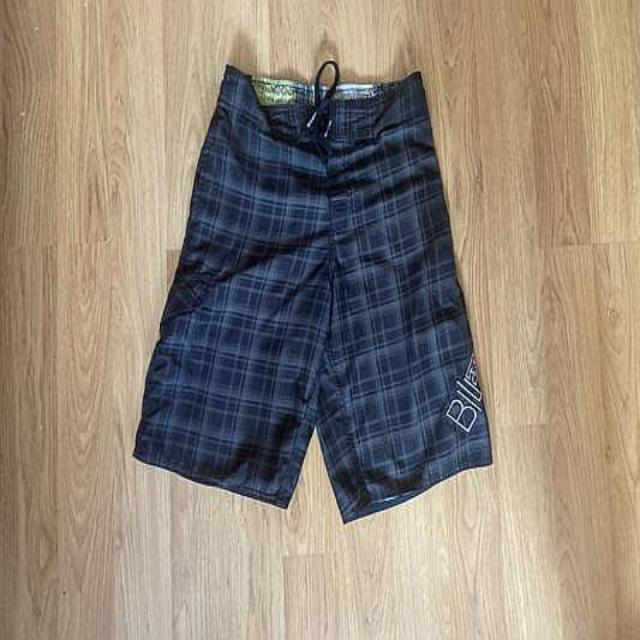SHORT: (128, 53, 529, 530)
